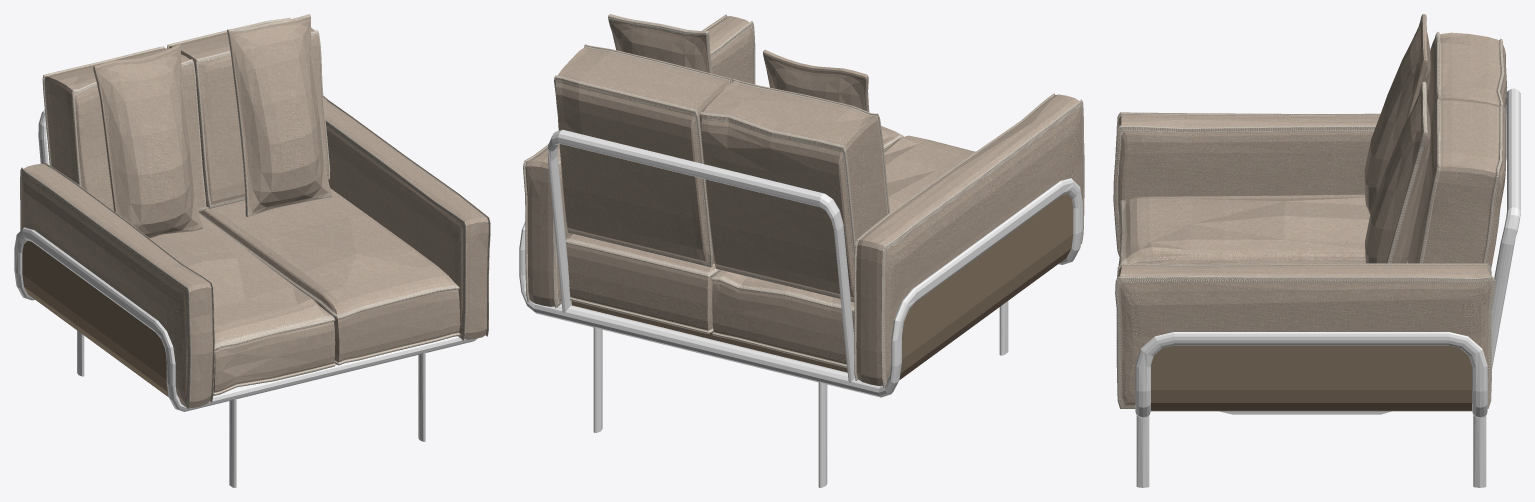
Rendered from sh-scopia-sofa-white-beige.glb.
The picture shows the model from 3 angles, left to right: view 1: azimuth 30°, elevation 25°; view 2: azimuth 150°, elevation 25°; view 3: azimuth 270°, elevation 25°; orthographic projection. The views are drawn at different scales.
Visible parts, largest first — view 1: cushion.001_Cube.006, structure_Cylinder, cover_Cylinder.001; view 2: cushion.001_Cube.006, structure_Cylinder, cover_Cylinder.001; view 3: cushion.001_Cube.006, cover_Cylinder.001, structure_Cylinder.
Part boxes in pixels (x1,y1,x2,y2): cushion.001_Cube.006: (20, 14, 490, 409); structure_Cylinder: (14, 110, 477, 487); cover_Cylinder.001: (22, 241, 168, 396); cushion.001_Cube.006: (523, 14, 1084, 387); structure_Cylinder: (519, 129, 1082, 487); cover_Cylinder.001: (571, 194, 1073, 379); cushion.001_Cube.006: (1113, 14, 1507, 408); cover_Cylinder.001: (1151, 345, 1471, 411); structure_Cylinder: (1135, 88, 1520, 487).
Bounding box in the file's own units: 1 × 1 × 1.
4 materials, 2 textured.
